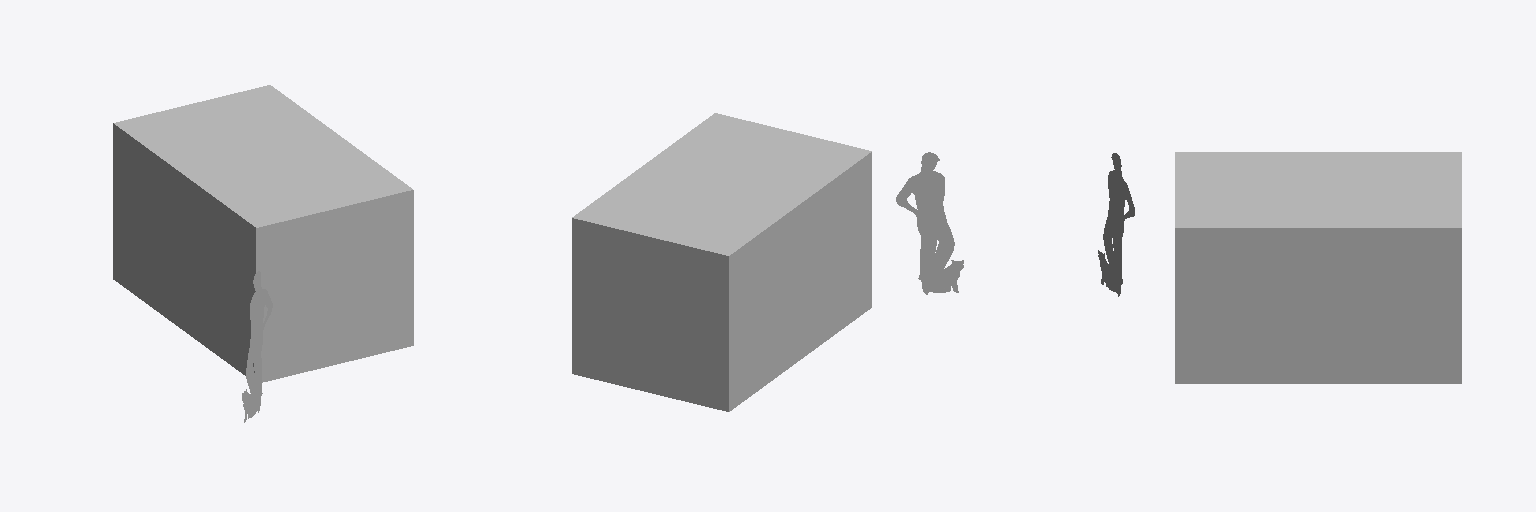
File: szescian_obj.obj
3 views of the same model, side by side, from view 1: azimuth 30°, elevation 25°; view 2: azimuth 150°, elevation 25°; view 3: azimuth 270°, elevation 25° (orthographic).
Visible parts, largest first — view 1: Mesh2 Model, Mesh1 Heather1 Model; view 2: Mesh2 Model, Mesh1 Heather1 Model; view 3: Mesh2 Model, Mesh1 Heather1 Model.
Part boxes in pixels (left/top/right/bottom): Mesh2 Model: left=113, top=85, right=413, bottom=382; Mesh1 Heather1 Model: left=242, top=271, right=272, bottom=422; Mesh2 Model: left=572, top=113, right=871, bottom=411; Mesh1 Heather1 Model: left=896, top=152, right=963, bottom=294; Mesh2 Model: left=1175, top=152, right=1461, bottom=383; Mesh1 Heather1 Model: left=1098, top=153, right=1134, bottom=296.
Bounding box in the file's own units: 100 × 71.94 × 150.